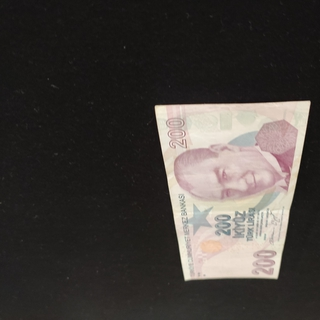200TLFront: (153, 99, 310, 282)
